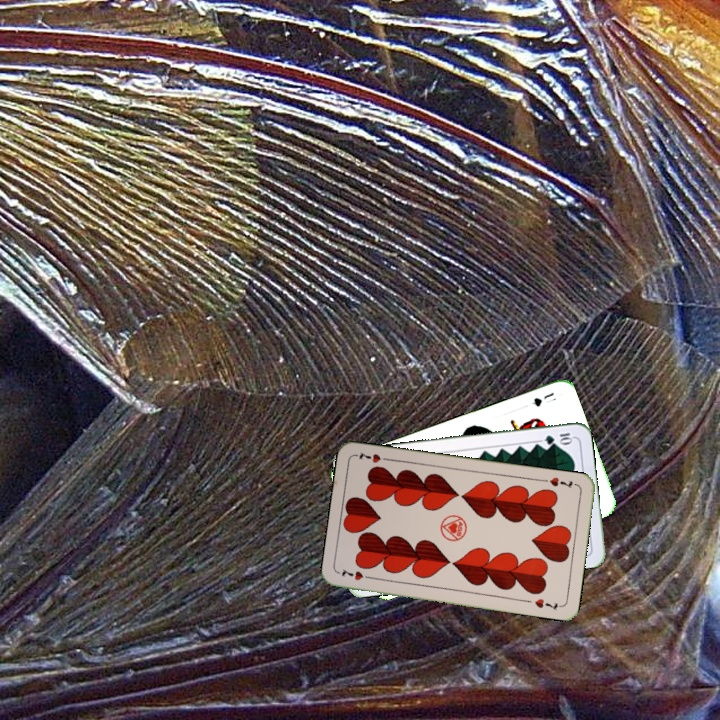G10: (541, 429, 575, 447)
GU: (529, 388, 556, 409)
H7: (338, 565, 376, 583), (545, 473, 575, 491)
